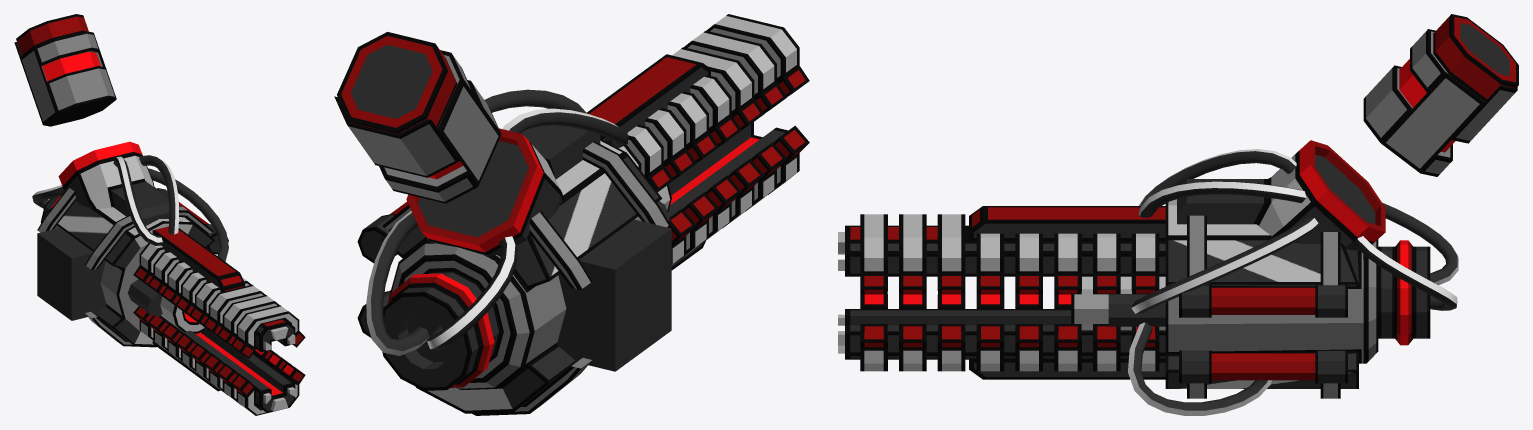
File: PulseRifle.fbx
3 renders of one model, left to right at view 1: azimuth 30°, elevation 25°; view 2: azimuth 150°, elevation 25°; view 3: azimuth 270°, elevation 25°, orthographic. The views are drawn at different scales.
Parts seen in each view (by area): view 1: Pulse Rifle Main, Pulse Rifle Mag, Pulse Rifle Top Barrel, Pulse Rifle Chain.007, Pulse Rifle Chain.006, Pulse Rifle Chain.005, Pulse Rifle Chain.015, BézierCurve.001, Pulse Rifle Chain.004, Pulse Rifle Chain.001, Pulse Rifle Chain.003, Pulse Rifle Chain.002 (+8 smaller); view 2: Pulse Rifle Main, Pulse Rifle Mag, Pulse Rifle Top Barrel, Pulse Rifle Chain.006, Pulse Rifle Chain.007, BézierCurve.001, Pulse Rifle Chain.005, Pulse Rifle Chain.002, Pulse Rifle Chain.003, Pulse Rifle Chain.004, Pulse Rifle Chain.001, Pulse Rifle Chain.013 (+5 smaller); view 3: Pulse Rifle Main, Pulse Rifle Top Barrel, Pulse Rifle Mag, BézierCurve.001, Pulse Rifle Chain.005, Pulse Rifle Chain.006, Pulse Rifle Chain.007, Pulse Rifle Chain.012, Pulse Rifle Chain.013, Pulse Rifle Chain.004, Pulse Rifle Chain.011, Pulse Rifle Chain.014 (+8 smaller).
Part boxes in pixels (x1,y1,x2,y2): Pulse Rifle Main: (32,141,228,347); Pulse Rifle Mag: (14,14,116,126); Pulse Rifle Top Barrel: (152,226,295,413); Pulse Rifle Chain.007: (230,305,305,358); Pulse Rifle Chain.006: (216,295,279,345); Pulse Rifle Chain.005: (202,285,265,335); Pulse Rifle Chain.015: (230,362,305,415); BézierCurve.001: (33,156,228,261); Pulse Rifle Chain.004: (189,277,251,325); Pulse Rifle Chain.001: (147,251,178,294); Pulse Rifle Chain.003: (175,271,206,315); Pulse Rifle Chain.002: (161,261,192,304); Pulse Rifle Main: (357,89,671,415); Pulse Rifle Mag: (334,32,501,203); Pulse Rifle Top Barrel: (587,19,787,270); Pulse Rifle Chain.006: (684,30,786,113); Pulse Rifle Chain.007: (707,14,809,96); BézierCurve.001: (366,108,618,355); Pulse Rifle Chain.005: (672,47,764,129); Pulse Rifle Chain.002: (645,108,696,179); Pulse Rifle Chain.003: (667,91,718,163); Pulse Rifle Chain.004: (690,75,741,146); Pulse Rifle Chain.001: (627,124,673,192); Pulse Rifle Chain.013: (722,159,764,228); Pulse Rifle Main: (1071,140,1457,410); Pulse Rifle Top Barrel: (838,206,1165,379); Pulse Rifle Mag: (1363,14,1518,176); BézierCurve.001: (1128,149,1458,415); Pulse Rifle Chain.005: (937,214,965,294); Pulse Rifle Chain.006: (899,214,926,294); Pulse Rifle Chain.007: (860,214,887,294); Pulse Rifle Chain.012: (976,294,1004,371); Pulse Rifle Chain.013: (937,294,965,371); Pulse Rifle Chain.004: (976,233,1004,294); Pulse Rifle Chain.011: (1015,294,1042,371); Pulse Rifle Chain.014: (899,294,926,371).
Size of the model in its own units: 2.82 by 0.9693 by 1.67.
